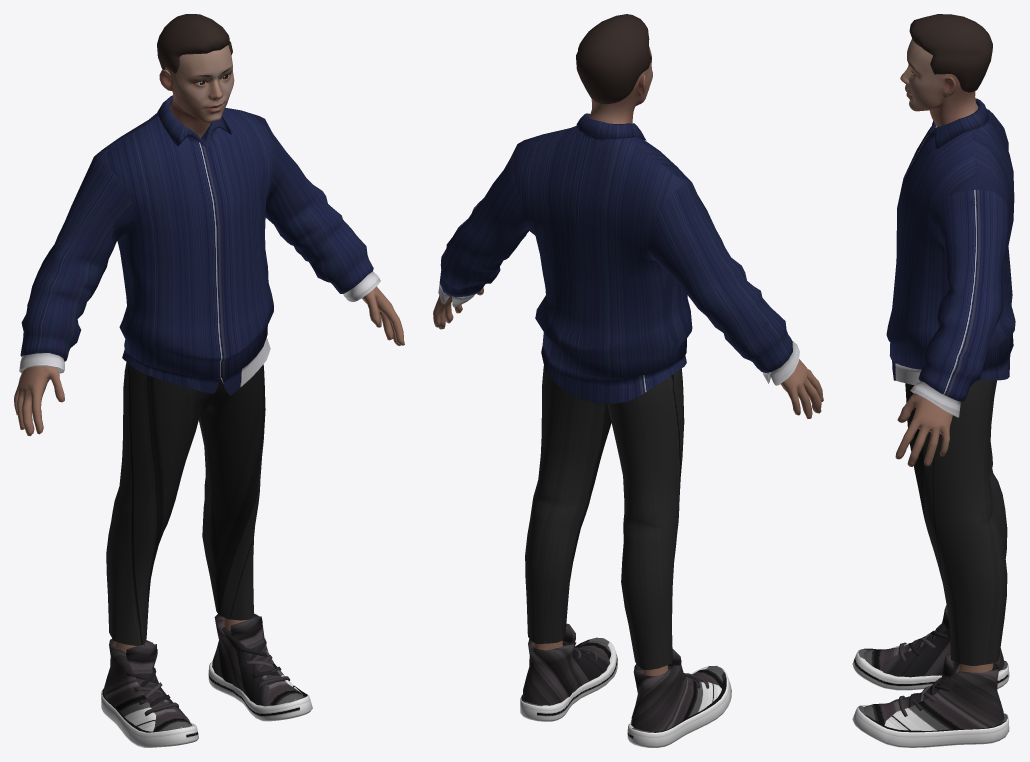
The picture shows the model from 3 angles, left to right: view 1: azimuth 30°, elevation 25°; view 2: azimuth 150°, elevation 25°; view 3: azimuth 270°, elevation 25°; orthographic projection.
Visible parts, largest first — view 1: Wolf3D_Outfit_Top, Wolf3D_Outfit_Bottom, Wolf3D_Outfit_Footwear, Wolf3D_Head, Wolf3D_Body, Wolf3D_Hair; view 2: Wolf3D_Outfit_Top, Wolf3D_Outfit_Bottom, Wolf3D_Outfit_Footwear, Wolf3D_Hair, Wolf3D_Body, Wolf3D_Head; view 3: Wolf3D_Outfit_Top, Wolf3D_Outfit_Bottom, Wolf3D_Outfit_Footwear, Wolf3D_Hair, Wolf3D_Head, Wolf3D_Body.
Boxes of the visible parts, x1,y1,x2,y2 form: Wolf3D_Outfit_Top: [19, 95, 380, 395]; Wolf3D_Outfit_Bottom: [106, 362, 265, 645]; Wolf3D_Outfit_Footwear: [101, 613, 312, 747]; Wolf3D_Head: [159, 45, 234, 138]; Wolf3D_Body: [14, 286, 404, 652]; Wolf3D_Hair: [157, 14, 232, 73]; Wolf3D_Outfit_Top: [438, 113, 799, 403]; Wolf3D_Outfit_Bottom: [525, 366, 684, 669]; Wolf3D_Outfit_Footwear: [520, 623, 731, 747]; Wolf3D_Hair: [576, 14, 651, 104]; Wolf3D_Body: [433, 287, 823, 676]; Wolf3D_Head: [589, 46, 652, 123]; Wolf3D_Outfit_Top: [886, 98, 1015, 417]; Wolf3D_Outfit_Bottom: [905, 380, 1007, 665]; Wolf3D_Outfit_Footwear: [852, 605, 1009, 747]; Wolf3D_Hair: [909, 14, 992, 92]; Wolf3D_Head: [900, 39, 978, 126]; Wolf3D_Body: [895, 393, 993, 672].
Size of the model in its own units: 1.06 by 1.86 by 0.3974.
8 materials, 8 textured.
